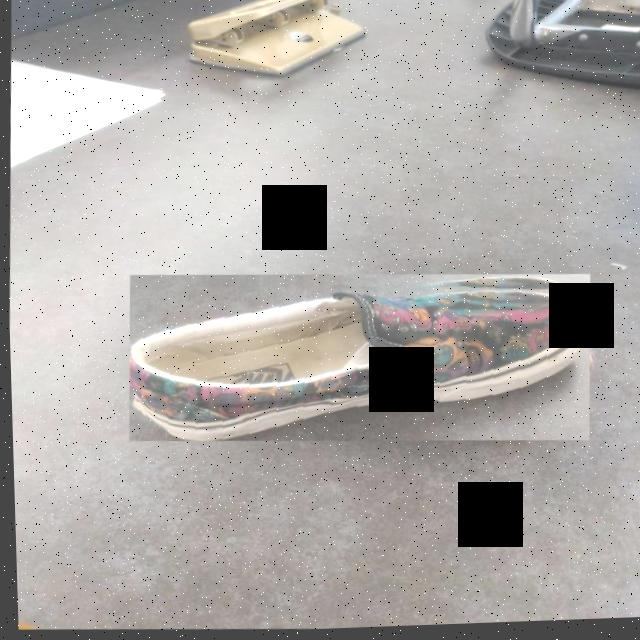shoe: (122, 262, 593, 458)
